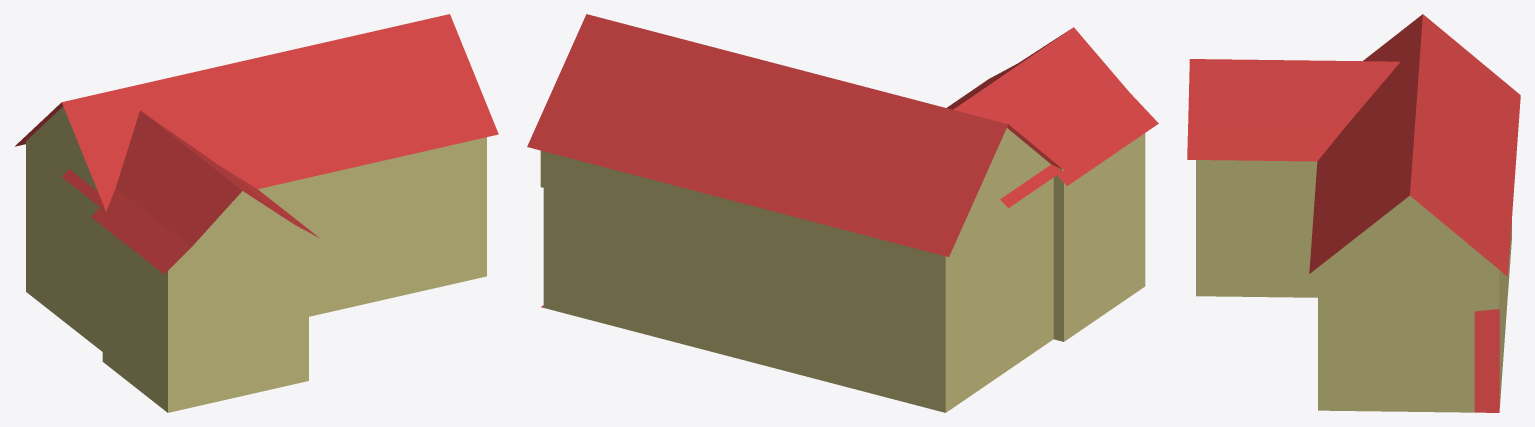
3 views of the same model, side by side, from view 1: azimuth 30°, elevation 25°; view 2: azimuth 150°, elevation 25°; view 3: azimuth 270°, elevation 25° (orthographic). The views are drawn at different scales.
Bounding box in the file's own units: 26.23 × 19.44 × 14.14.
